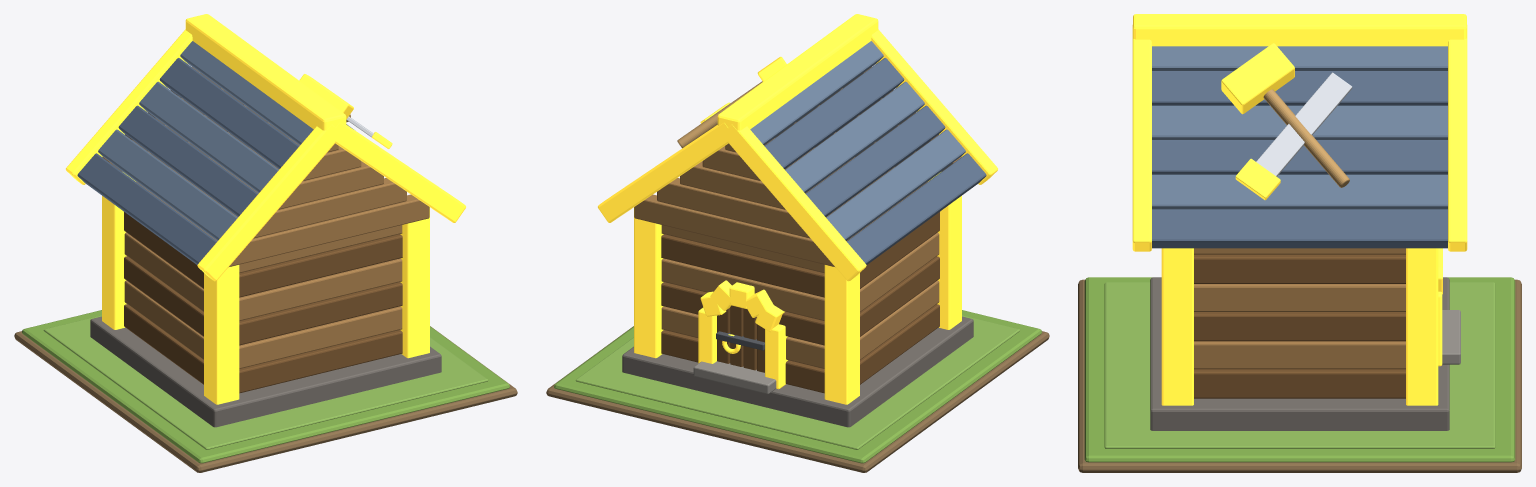
File: builder_barracks_lv6.glb
3 renders of one model, left to right at view 1: azimuth 30°, elevation 25°; view 2: azimuth 150°, elevation 25°; view 3: azimuth 270°, elevation 25°, orthographic. The views are drawn at different scales.
Parts seen in each view (by area): view 1: Base_Inner, BB_Foundation, Base_Grass, WallPlank_0, WallPlank_2, WallPlank_1, WallPlank_3, WallPlank_4, RidgeBeam, Base_Dirt, Bargeboard_-1_-1, RoofSlope_-1_2 (+16 smaller); view 2: Base_Inner, BB_Foundation, Base_Grass, WallPlank_4, RidgeBeam, Base_Dirt, WallPlank_3, Bargeboard_1_-1, RoofSlope_-1_2, RoofSlope_-1_5, RoofSlope_-1_1, RoofSlope_-1_4 (+22 smaller); view 3: Base_Inner, Base_Grass, RoofSlope_1_5, BB_Foundation, RidgeBeam, RoofSlope_1_4, RoofSlope_1_2, RoofSlope_1_3, RoofSlope_1_1, Base_Dirt, RoofSlope_1_0, WallPlank_0 (+14 smaller).
Boxes of the visible parts, box(x1,y1,x2,y2) form: Base_Inner: box(43, 315, 488, 449); BB_Foundation: box(90, 316, 441, 427); Base_Grass: box(22, 310, 509, 463); WallPlank_0: box(124, 304, 402, 393); WallPlank_2: box(124, 256, 402, 345); WallPlank_1: box(124, 280, 402, 368); WallPlank_3: box(124, 232, 402, 320); WallPlank_4: box(124, 212, 402, 297); RidgeBeam: box(185, 14, 346, 130); Base_Dirt: box(14, 326, 517, 472); Bargeboard_-1_-1: box(197, 124, 339, 281); RoofSlope_-1_2: box(139, 81, 278, 193); Base_Inner: box(575, 315, 1020, 449); BB_Foundation: box(622, 316, 973, 427); Base_Grass: box(554, 310, 1041, 463); WallPlank_4: box(661, 212, 939, 297); RidgeBeam: box(717, 14, 878, 130); Base_Dirt: box(546, 326, 1049, 472); WallPlank_3: box(661, 232, 939, 320); Bargeboard_1_-1: box(722, 124, 866, 281); RoofSlope_-1_2: box(785, 81, 924, 193); RoofSlope_-1_5: box(846, 153, 986, 264); RoofSlope_-1_1: box(764, 58, 904, 169); RoofSlope_-1_4: box(826, 129, 965, 240); Base_Inner: box(1104, 282, 1495, 448); Base_Grass: box(1084, 277, 1515, 462); RoofSlope_1_5: box(1152, 209, 1447, 248); BB_Foundation: box(1150, 277, 1449, 430); RidgeBeam: box(1133, 14, 1466, 46); RoofSlope_1_4: box(1152, 174, 1447, 209); RoofSlope_1_2: box(1152, 105, 1447, 139); RoofSlope_1_3: box(1152, 140, 1447, 174); RoofSlope_1_1: box(1152, 71, 1447, 105); Base_Dirt: box(1078, 279, 1521, 472); RoofSlope_1_0: box(1152, 46, 1447, 70); WallPlank_0: box(1194, 369, 1405, 398).
Size of the model in its own units: 2.76 by 2.48 by 2.76.
